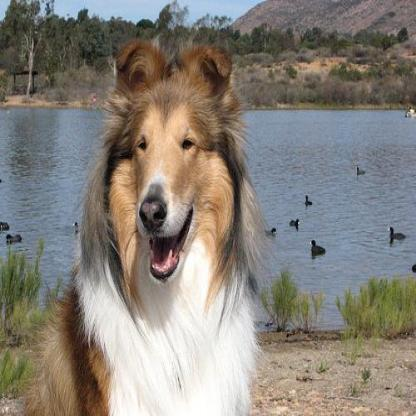collie: (19, 38, 257, 414)
